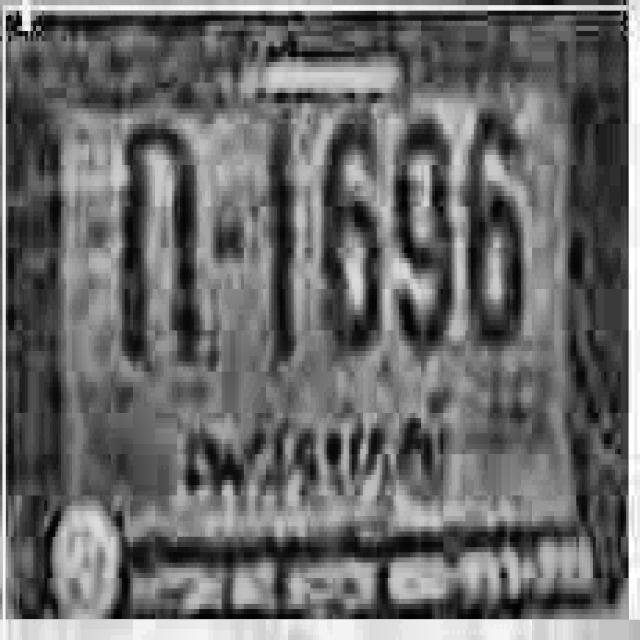license-plate: (32, 54, 604, 621)
